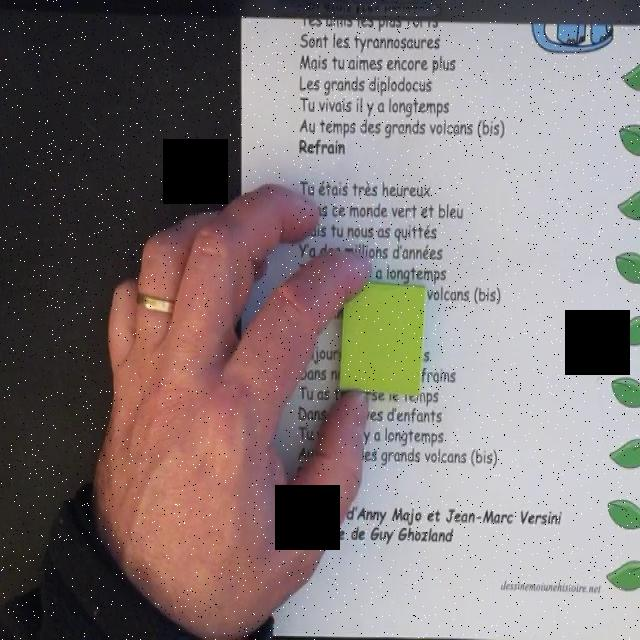square: (338, 280, 428, 396)
